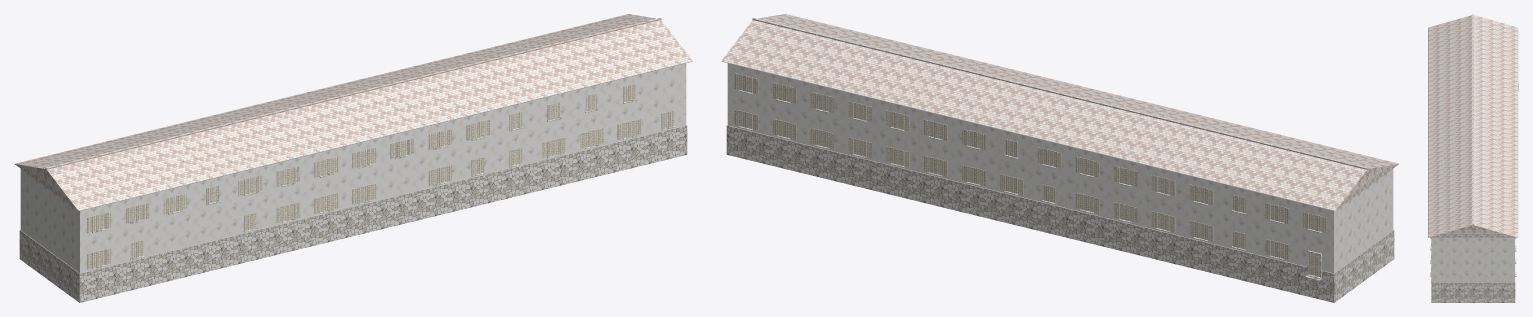
3 views of the same model, side by side, from view 1: azimuth 30°, elevation 25°; view 2: azimuth 150°, elevation 25°; view 3: azimuth 270°, elevation 25° (orthographic). The views are drawn at different scales.
Visible parts, largest first — view 1: b1053724040; view 2: b1053724040; view 3: b1053724040.
Part boxes in pixels (x1,y1,x2,y2): b1053724040: [15, 14, 692, 302]; b1053724040: [721, 14, 1398, 302]; b1053724040: [1428, 14, 1518, 302].
Bounding box in the file's own units: 55.14 × 9.75 × 10.06.
16 materials, 16 textured.
